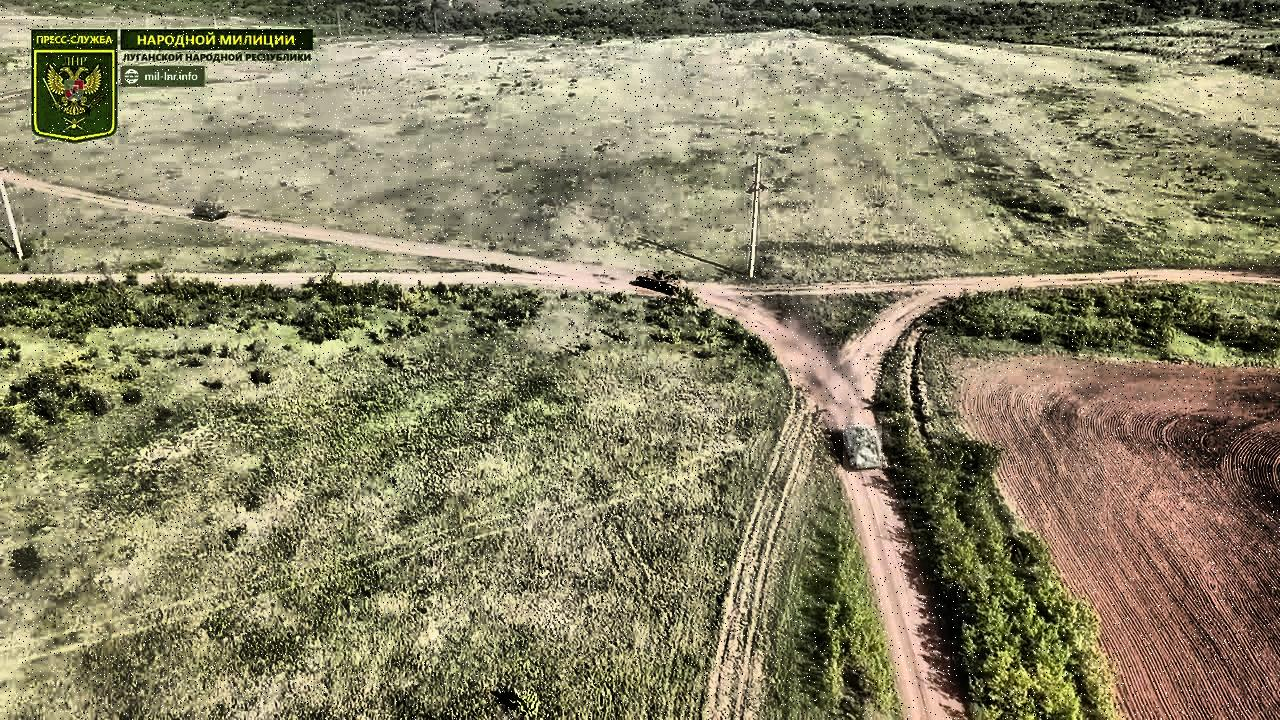military-vehicle: (844, 425, 883, 471), (637, 272, 682, 295), (190, 204, 228, 222)
